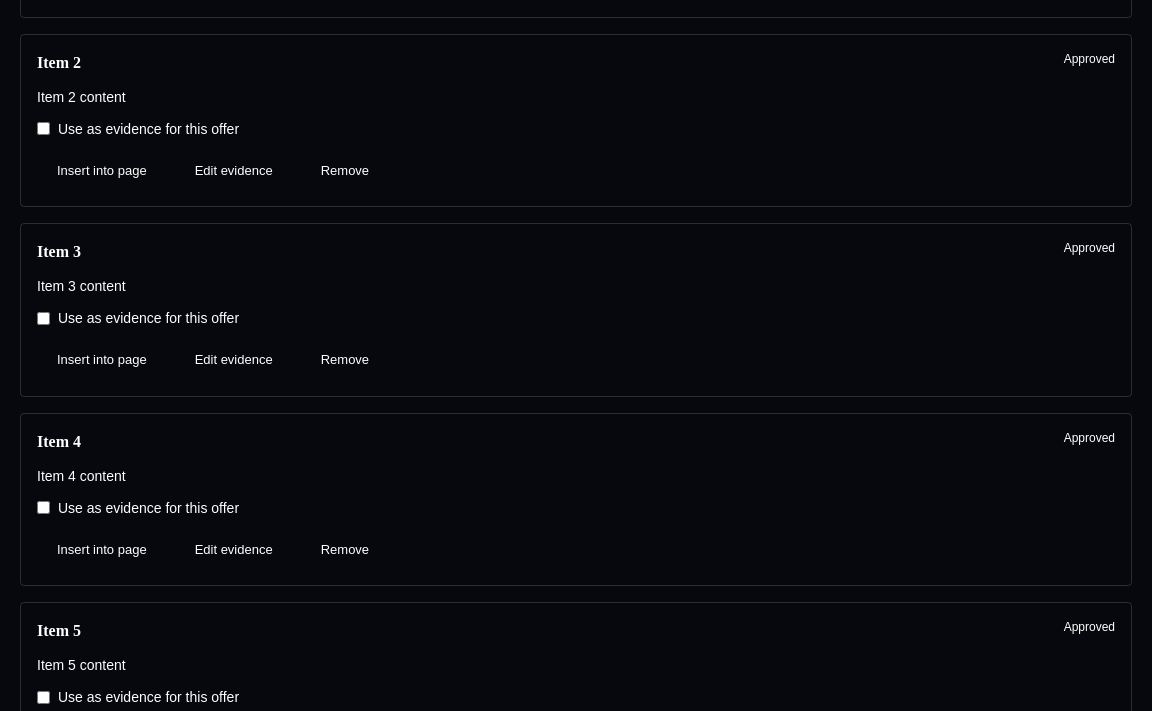
Scenario: proof library editing › opens the editor in place of the item being edited and focuses it
The width and height of the screenshot is (1152, 711).
(page scrolled)
Click the button "Edit evidence" below "Item 3 content" at (234, 360), box 175,340 -> 293,380
(page scrolled)
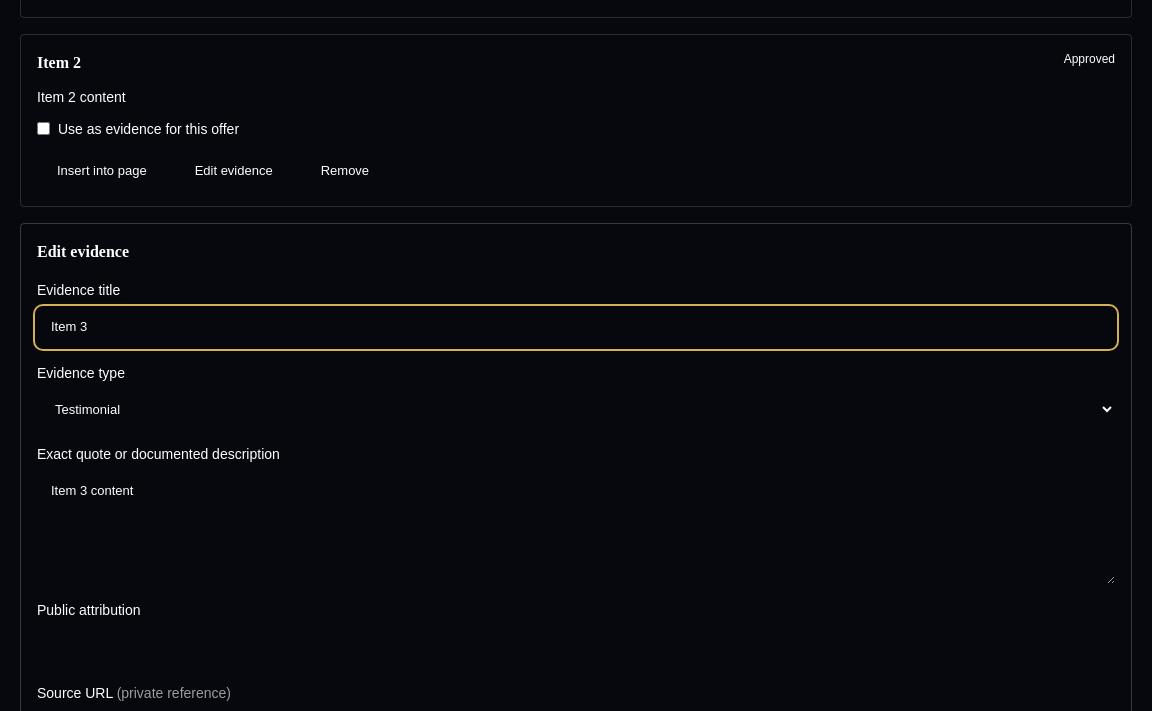
Result: the field labelled "Evidence title" holds "Item 3" at 37,308 -> 1115,347
